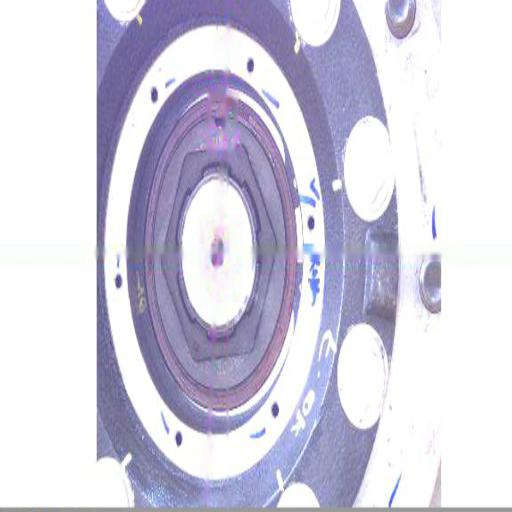center: (207, 243, 222, 273)
notch: (210, 111, 228, 137)
